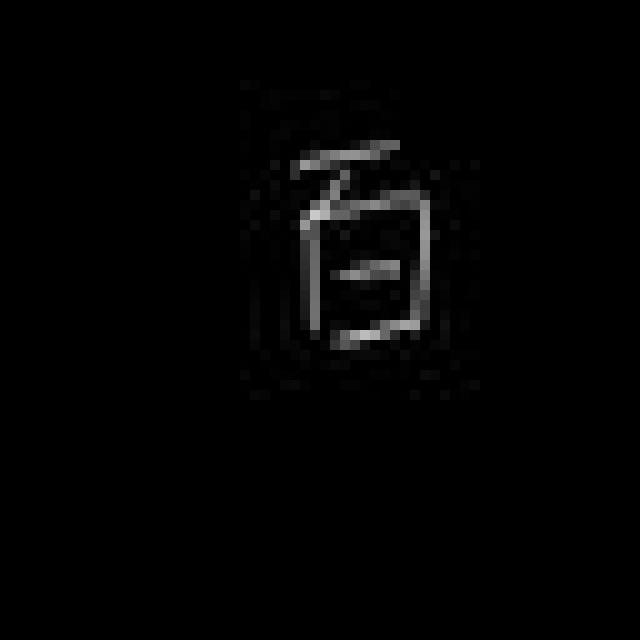100 -a hundred-: (270, 132, 440, 360)
